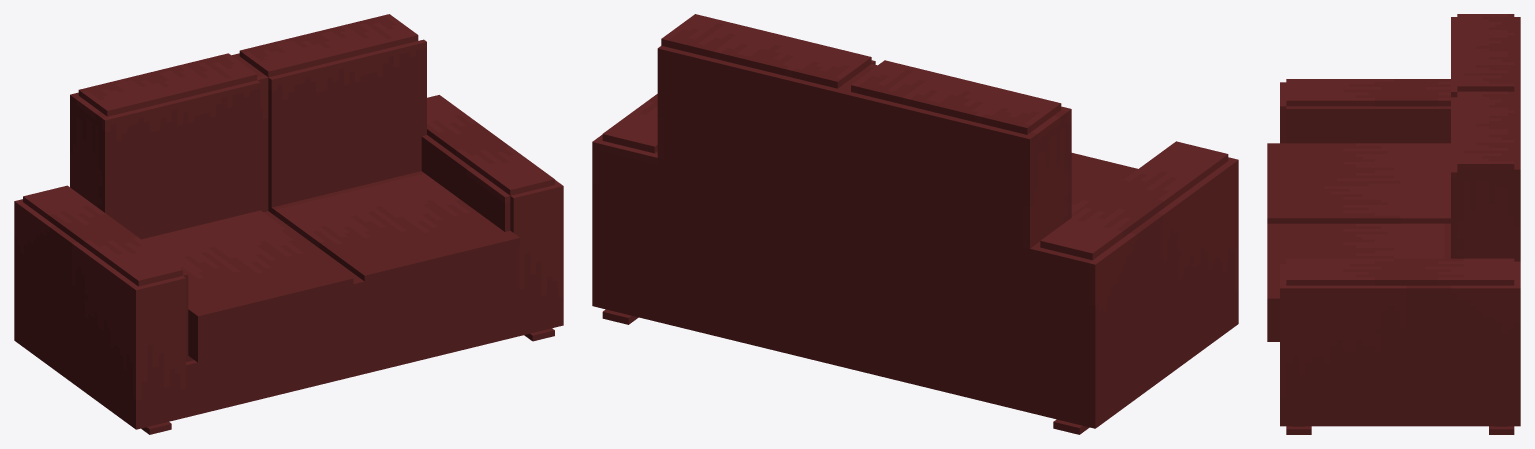
The model's file is Decor-33.obj.
The picture shows the model from 3 angles, left to right: view 1: azimuth 30°, elevation 25°; view 2: azimuth 150°, elevation 25°; view 3: azimuth 270°, elevation 25°; orthographic projection. The views are drawn at different scales.
Bounding box in the file's own units: 7.7 × 4.3 × 4.
1 material, 1 textured.
